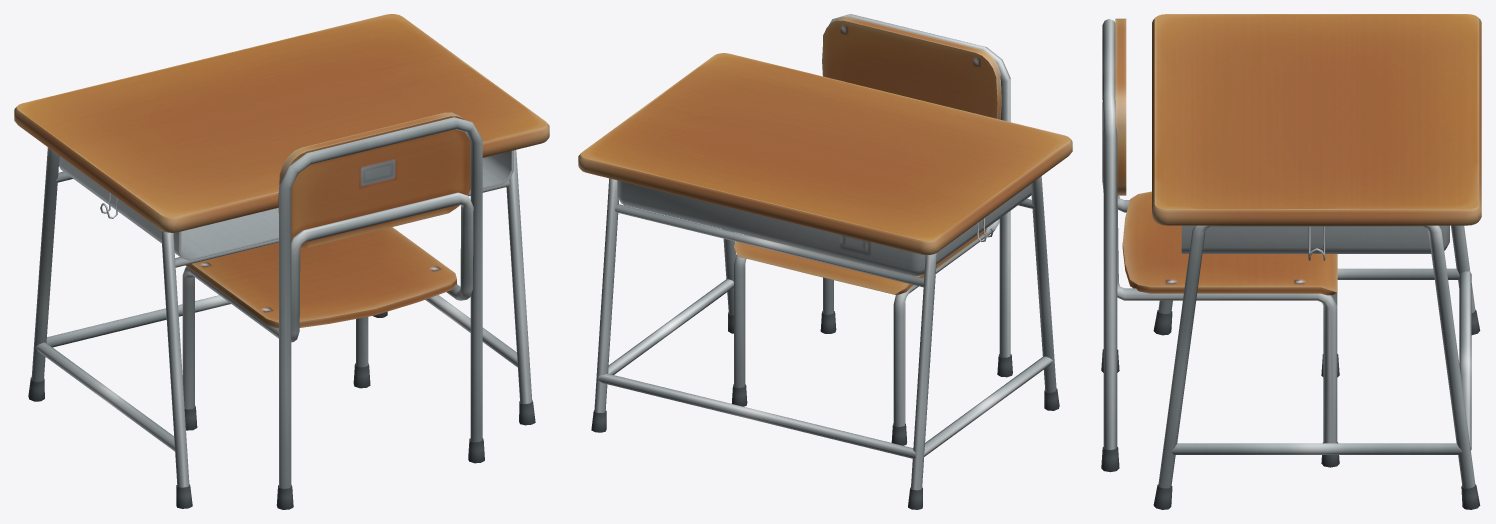
Rendered from School_desk_chair_01_SS.fbx.
The picture shows the model from 3 angles, left to right: view 1: azimuth 30°, elevation 25°; view 2: azimuth 150°, elevation 25°; view 3: azimuth 270°, elevation 25°; orthographic projection. The views are drawn at different scales.
Parts seen in each view (by area): view 1: school_desk, school_chair; view 2: school_desk, school_chair; view 3: school_desk, school_chair.
Part boxes in pixels (x1=…): school_desk: x1=14, y1=14, x2=549, y2=508; school_chair: x1=182, y1=112, x2=484, y2=509; school_desk: x1=578, y1=53, x2=1072, y2=509; school_chair: x1=731, y1=14, x2=1012, y2=445; school_desk: x1=1152, y1=14, x2=1481, y2=509; school_chair: x1=1101, y1=18, x2=1339, y2=472.
Size of the model in its own units: 80 by 68.53 by 64.98.
